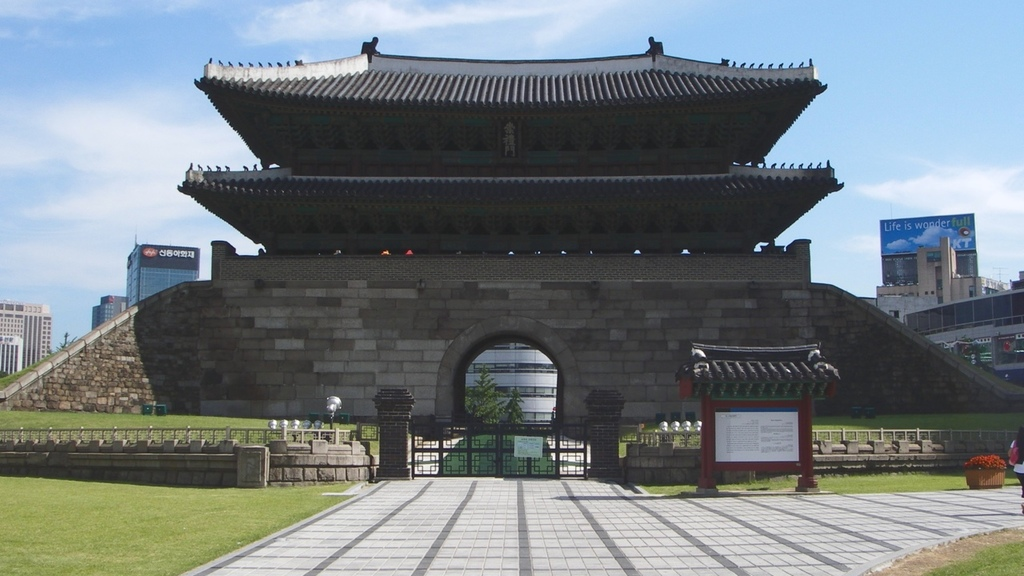Tree: (467, 367, 503, 423)
